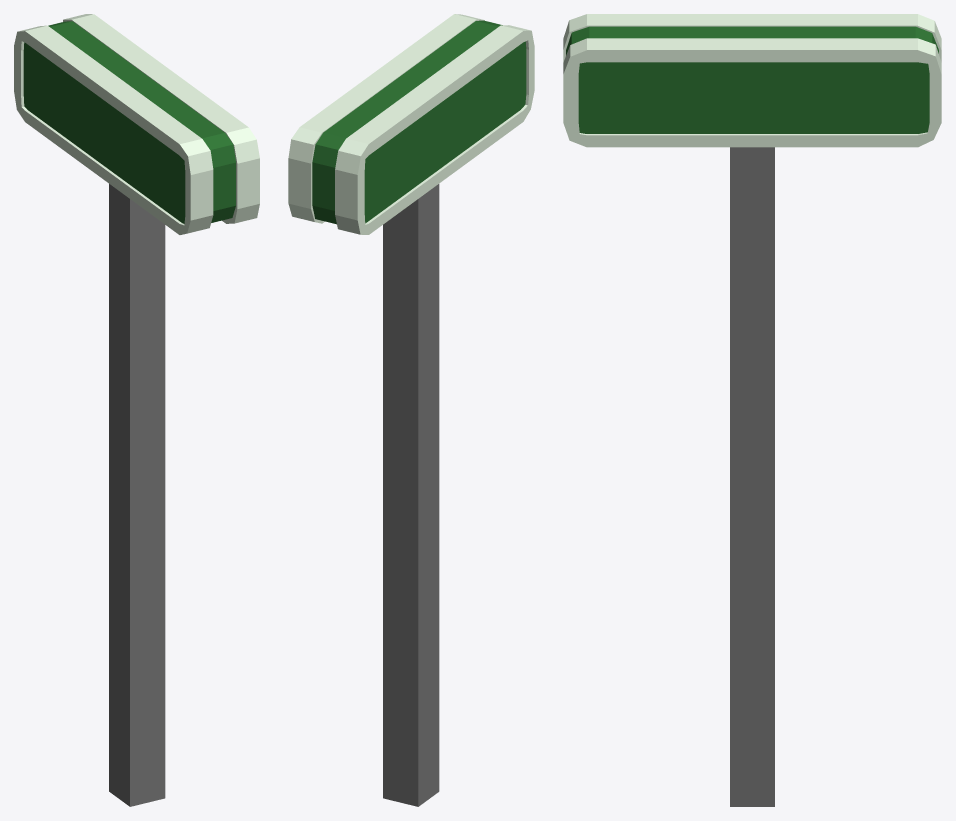
Rendered from streetsign(not conjoined) (1).fbx.
The picture shows the model from 3 angles, left to right: view 1: azimuth 30°, elevation 25°; view 2: azimuth 150°, elevation 25°; view 3: azimuth 270°, elevation 25°; orthographic projection. The views are drawn at different scales.
Visible parts, largest first — view 1: Cube, Cube.001, Cube.002, Cube.003; view 2: Cube, Cube.001, Cube.002, Cube.003; view 3: Cube.001, Cube, Cube.003, Cube.002.
Part boxes in pixels (x1=…): Cube: x1=109, y1=184, x2=165, y2=806; Cube.001: x1=23, y1=21, x2=235, y2=223; Cube.002: x1=14, y1=25, x2=213, y2=234; Cube.003: x1=63, y1=14, x2=259, y2=223; Cube: x1=383, y1=184, x2=439, y2=806; Cube.001: x1=312, y1=20, x2=526, y2=224; Cube.002: x1=335, y1=25, x2=534, y2=234; Cube.003: x1=288, y1=14, x2=484, y2=223; Cube.001: x1=566, y1=26, x2=938, y2=133; Cube: x1=730, y1=147, x2=774, y2=806; Cube.003: x1=563, y1=38, x2=941, y2=147; Cube.002: x1=563, y1=14, x2=941, y2=62.
Size of the model in its own units: 41.55 by 410 by 184.
